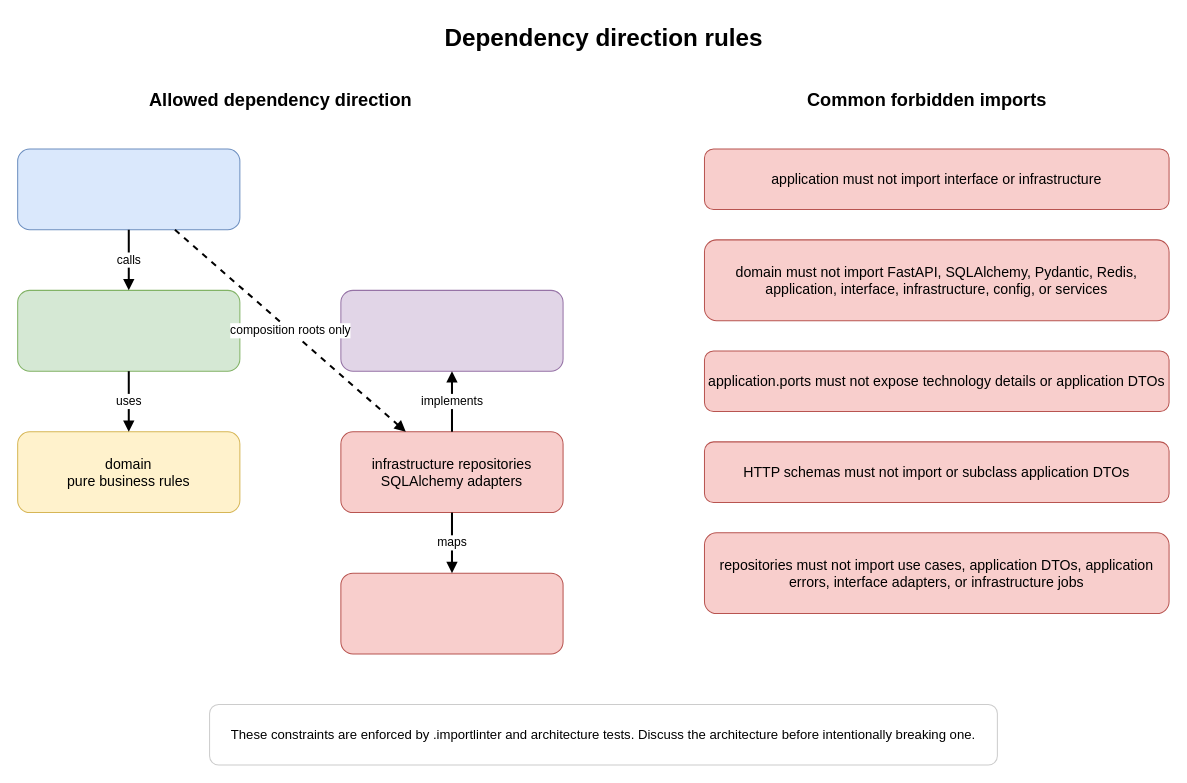
This 1187x783 diagram has some shape labels left out. The box of each missing label's shape, as (x1, y1, x2, y2) in pixels:
application use cases, DTOs, ports: (17, 289, 240, 371)
application.ports provider-neutral protocols: (340, 289, 563, 371)
interface HTTP and job delivery adapters: (17, 148, 240, 230)
persistence models database table mappings: (340, 572, 563, 654)
